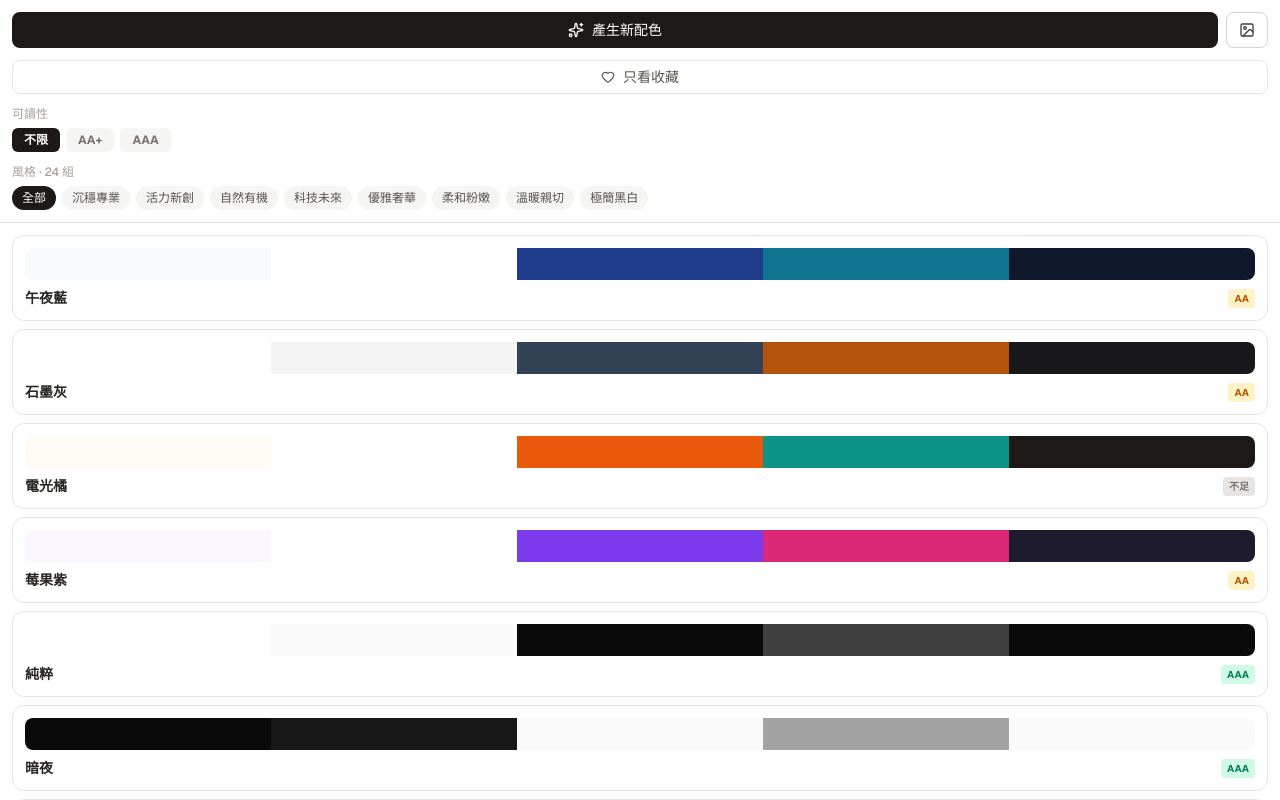
Test: PaletteGallery › narrows the list when filtering by mood
Expected: the text "午夜藍" is shown, [25,288,67,308]
Click the button "科技未來": (318, 198) [284,186,352,210]
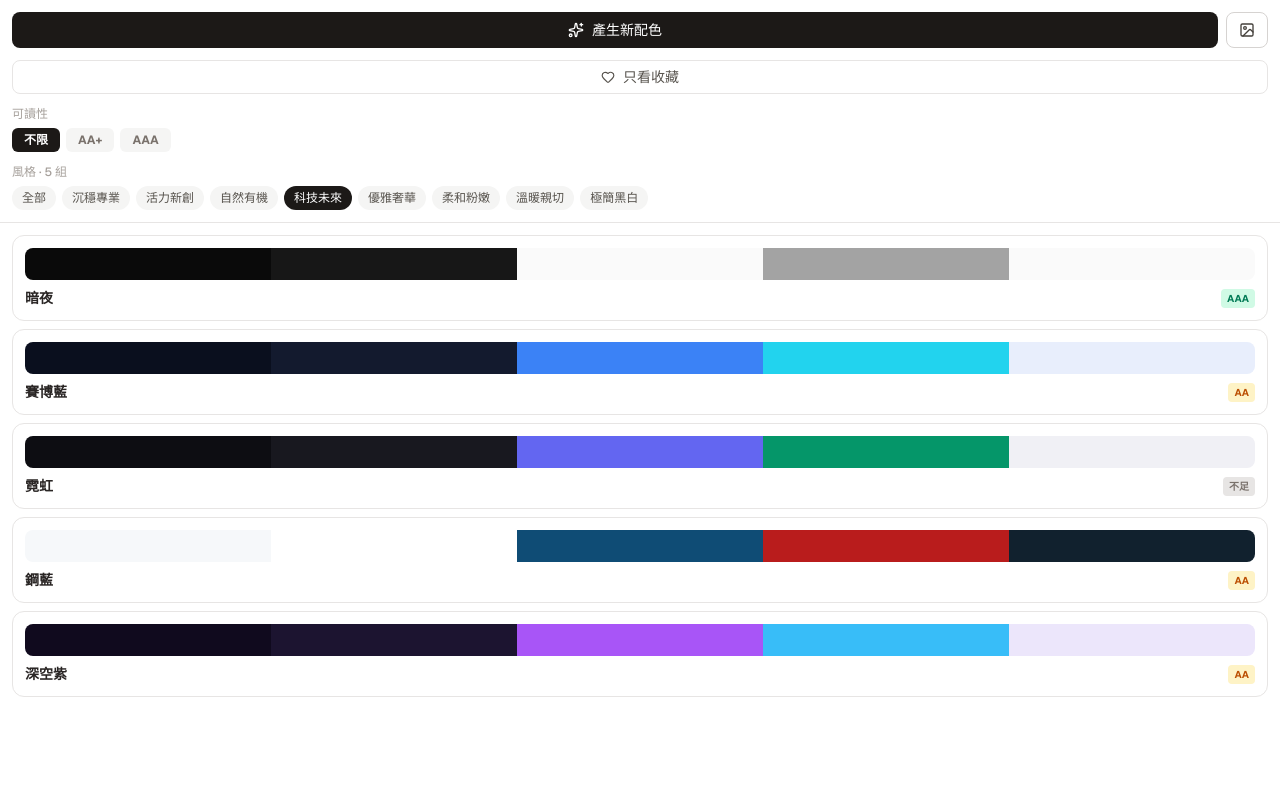
Expected: the text "賽博藍" is shown, [25,382,67,402]
Expected: the button "午夜藍" is gone
